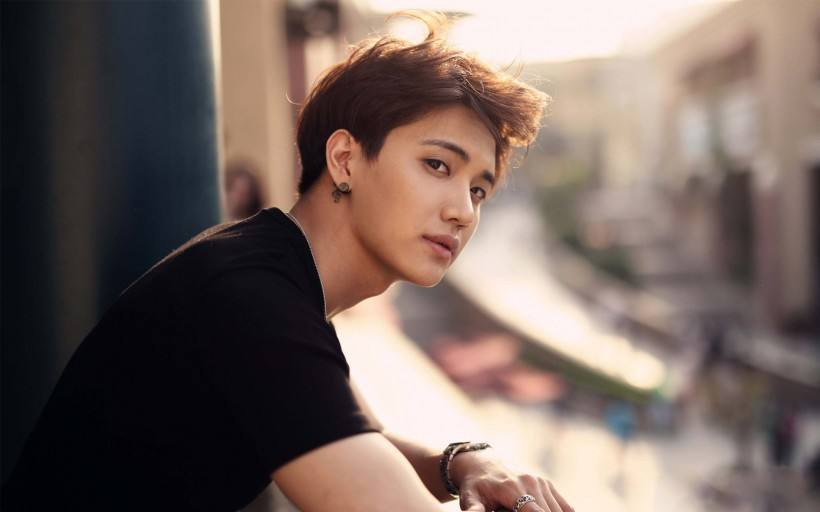person: (180, 37, 537, 493)
